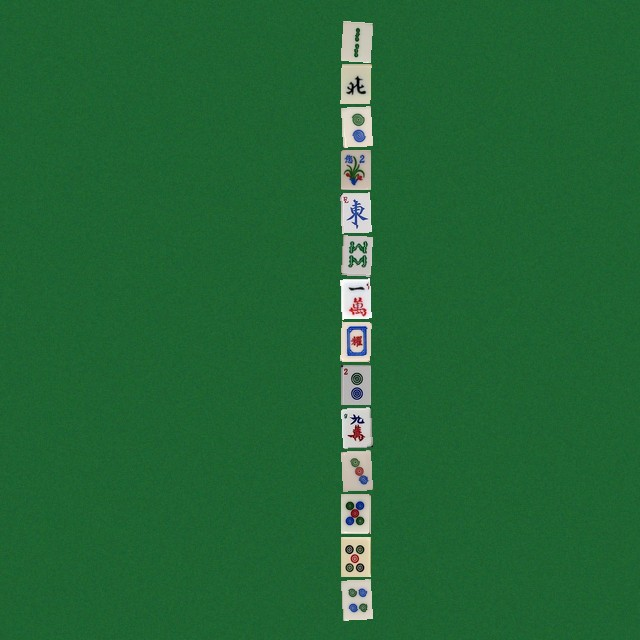tile: (340, 20, 370, 60), (340, 63, 370, 103), (340, 106, 370, 146), (340, 149, 370, 189), (340, 192, 370, 232), (340, 235, 370, 275), (340, 278, 370, 318), (340, 321, 370, 361), (340, 364, 370, 404), (340, 407, 370, 447), (340, 450, 370, 490), (340, 493, 370, 533), (340, 536, 370, 576), (340, 579, 370, 619)
